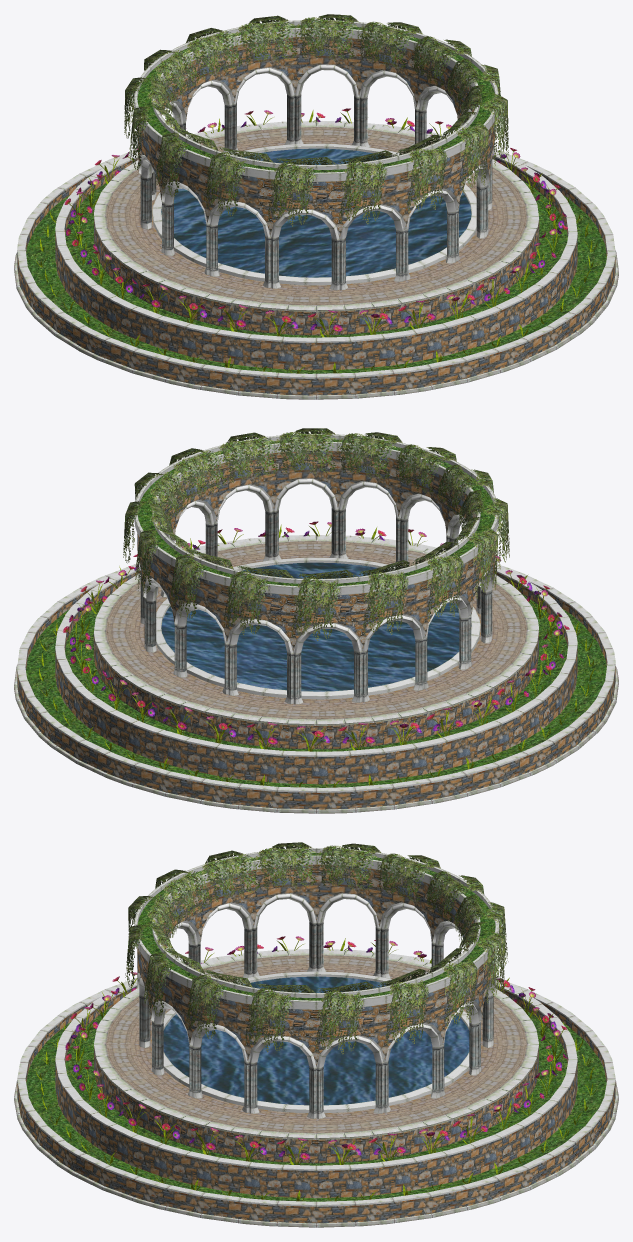
Rendered from UDC_Fountain.obj.
3 views of the same model, one above another, from view 1: azimuth 30°, elevation 25°; view 2: azimuth 150°, elevation 25°; view 3: azimuth 270°, elevation 25° (orthographic).
Visible parts, largest first — view 1: UDC_Fountain; view 2: UDC_Fountain; view 3: UDC_Fountain.
Part boxes in pixels (<box>): UDC_Fountain: <box>14,14,618,399</box>; UDC_Fountain: <box>14,428,618,813</box>; UDC_Fountain: <box>14,842,618,1227</box>.
Size of the model in its own units: 3.82 by 1.29 by 3.82.
9 materials, 9 textured.
